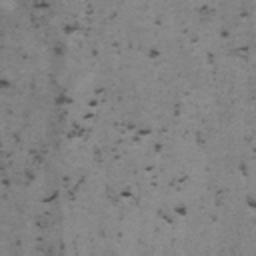Oxide scale of temperature system: (0, 0, 250, 256), (238, 161, 256, 210)
